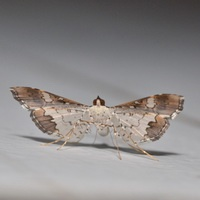insect: (10, 86, 183, 159)
